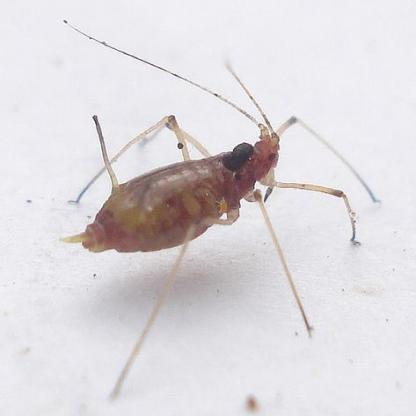aphid: (62, 18, 373, 387)
